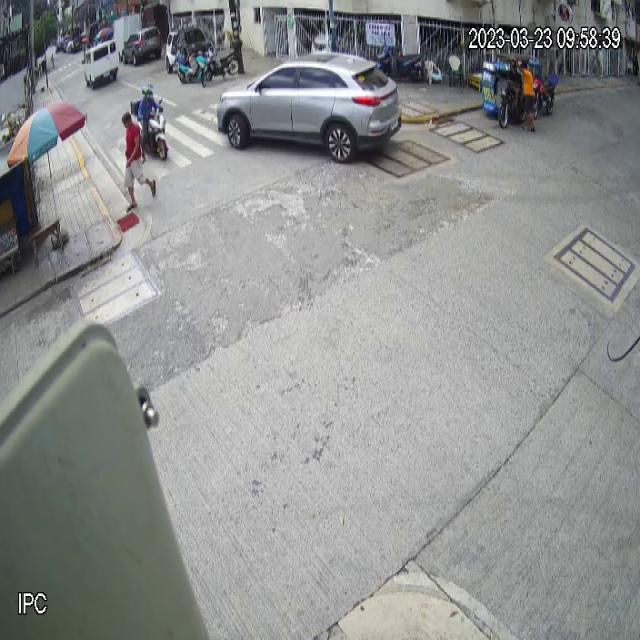Car: (217, 50, 403, 164)
Motorcycle: (130, 98, 170, 162)
Tricycle: (482, 55, 528, 129)
Van: (82, 36, 120, 90)
